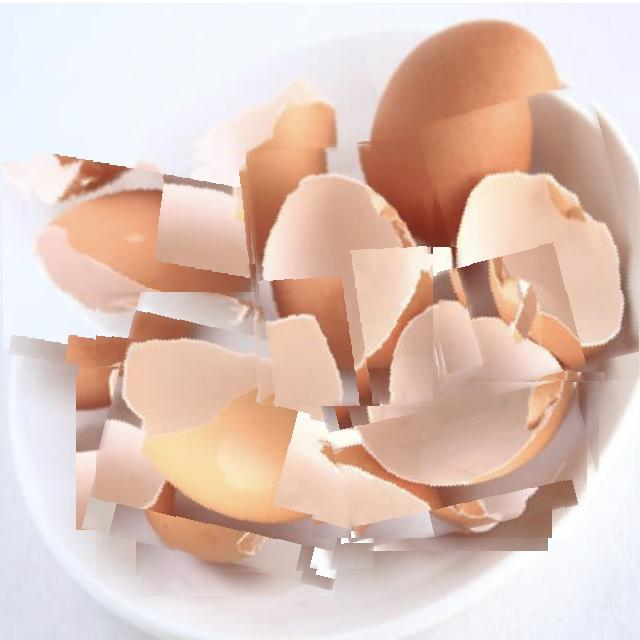biodegradable: (96, 292, 380, 577), (308, 260, 587, 538), (433, 90, 639, 383), (16, 136, 256, 375), (245, 140, 433, 406)
